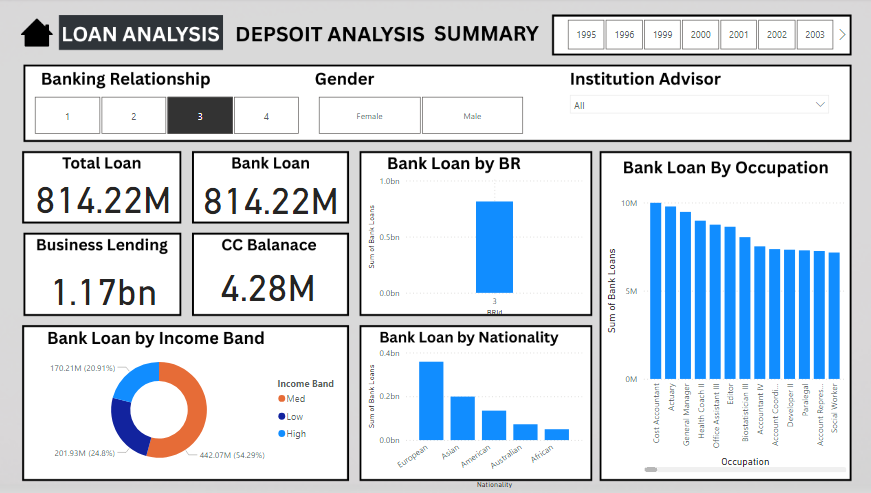

This screenshot's page, from the dashboard's own definition file:
{"tool":"powerbi","page":{"name":"Loan","canvas":[1280,720],"ordinal":2},"visuals":[{"type":"slicer","fields":{"Values":["4545c34b-6225-4efc-b2f4-cad1aec.Year of Joining"]},"box":[811.6,24.7,436.4,56.7],"z":0},{"type":"slicer","fields":{"Values":["4545c34b-6225-4efc-b2f4-cad1aec.GenderId"]},"box":[449.9,136,347,68],"z":1000},{"type":"actionButton","box":[36.6,24.4,55.8,57.5],"z":2000},{"type":"actionButton","box":[347,24.4,293,57.5],"z":3000},{"type":"actionButton","box":[640,33.1,156.9,48.8],"z":4000},{"type":"card","fields":{"Values":["Sum(4545c34b-6225-4efc-b2f4-cad1aec.Bank Loans)"]},"box":[52.4,251.6,219.6,69.8],"z":5000},{"type":"card","fields":{"Values":["Sum(4545c34b-6225-4efc-b2f4-cad1aec.Bank Loans)"]},"box":[292.4,256,226.9,65.5],"z":6000},{"type":"card","fields":{"Values":["Sum(4545c34b-6225-4efc-b2f4-cad1aec.Business Lending)"]},"box":[46.5,389.8,231.3,62.5],"z":7000},{"type":"card","fields":{"Values":["Sum(4545c34b-6225-4efc-b2f4-cad1aec.Credit Card Balance)"]},"box":[277.8,378.2,247.3,74.2],"z":8000},{"type":"donutChart","fields":{"Y":["Sum(4545c34b-6225-4efc-b2f4-cad1aec.Bank Loans)"],"Category":["4545c34b-6225-4efc-b2f4-cad1aec.Income Band"]},"box":[65.3,502.9,455,191.6],"z":9000},{"type":"columnChart","fields":{"Category":["4545c34b-6225-4efc-b2f4-cad1aec.BRId"],"Y":["Sum(4545c34b-6225-4efc-b2f4-cad1aec.Bank Loans)"]},"box":[540.6,251.1,322.6,216.2],"z":10000},{"type":"columnChart","fields":{"Category":["4545c34b-6225-4efc-b2f4-cad1aec.Nationality"],"Y":["Sum(4545c34b-6225-4efc-b2f4-cad1aec.Bank Loans)"]},"box":[540.6,502.2,322.6,216.2],"z":11000},{"type":"columnChart","fields":{"Category":["4545c34b-6225-4efc-b2f4-cad1aec.Occupation"],"Y":["Sum(4545c34b-6225-4efc-b2f4-cad1aec.Bank Loans)"]},"box":[888.2,283,359.2,411.4],"z":12000},{"type":"slicer","fields":{"Values":["4545c34b-6225-4efc-b2f4-cad1aec.BRId"]},"box":[36.6,136,434.2,68],"z":13000},{"type":"slicer","fields":{"Values":["4545c34b-6225-4efc-b2f4-cad1aec.IAId"]},"box":[830.5,130.9,397.1,114.9],"z":14000}]}

Visuals, with their boxes in screenshot pixels (x1, y1, x2, y2), scaled from the page's 1280x720 canvas onto the 871x493 screenshot:
slicer - 4545c34b-6225-4efc-b2f4-cad1aec.Year of Joining: BBox(552, 17, 849, 56)
slicer - 4545c34b-6225-4efc-b2f4-cad1aec.GenderId: BBox(306, 93, 542, 140)
actionButton: BBox(25, 17, 63, 56)
actionButton: BBox(236, 17, 436, 56)
actionButton: BBox(436, 23, 542, 56)
card - Sum(4545c34b-6225-4efc-b2f4-cad1aec.Bank Loans): BBox(36, 172, 185, 220)
card - Sum(4545c34b-6225-4efc-b2f4-cad1aec.Bank Loans): BBox(199, 175, 353, 220)
card - Sum(4545c34b-6225-4efc-b2f4-cad1aec.Business Lending): BBox(32, 267, 189, 310)
card - Sum(4545c34b-6225-4efc-b2f4-cad1aec.Credit Card Balance): BBox(189, 259, 357, 310)
donutChart - Sum(4545c34b-6225-4efc-b2f4-cad1aec.Bank Loans) x 4545c34b-6225-4efc-b2f4-cad1aec.Income Band: BBox(44, 344, 354, 476)
columnChart - 4545c34b-6225-4efc-b2f4-cad1aec.BRId x Sum(4545c34b-6225-4efc-b2f4-cad1aec.Bank Loans): BBox(368, 172, 587, 320)
columnChart - 4545c34b-6225-4efc-b2f4-cad1aec.Nationality x Sum(4545c34b-6225-4efc-b2f4-cad1aec.Bank Loans): BBox(368, 344, 587, 492)
columnChart - 4545c34b-6225-4efc-b2f4-cad1aec.Occupation x Sum(4545c34b-6225-4efc-b2f4-cad1aec.Bank Loans): BBox(604, 194, 849, 475)
slicer - 4545c34b-6225-4efc-b2f4-cad1aec.BRId: BBox(25, 93, 320, 140)
slicer - 4545c34b-6225-4efc-b2f4-cad1aec.IAId: BBox(565, 90, 835, 168)
